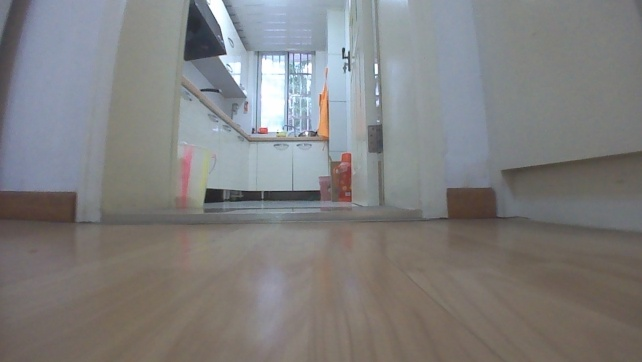cupboard: (176, 74, 333, 202)
door_anno: (339, 0, 419, 211)
